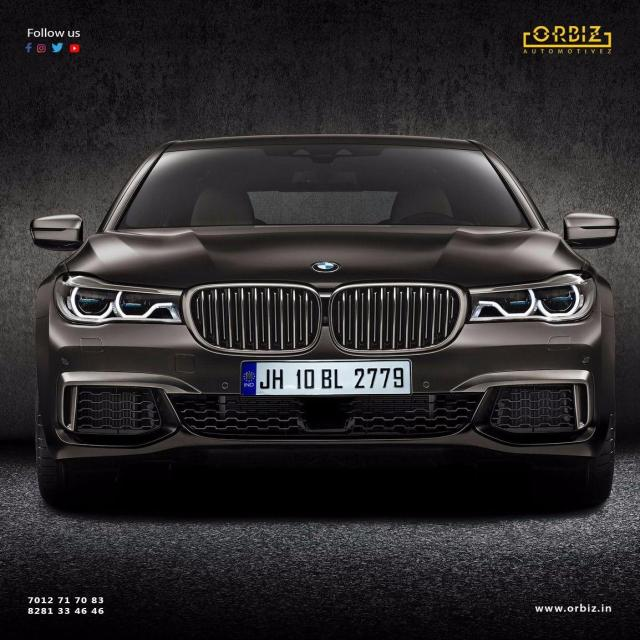number_plate: (258, 362, 410, 393)
